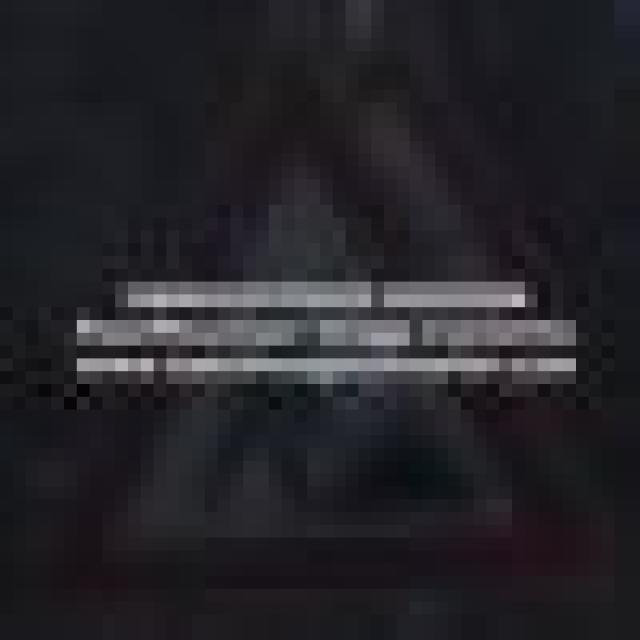road_work: (51, 77, 627, 589)
